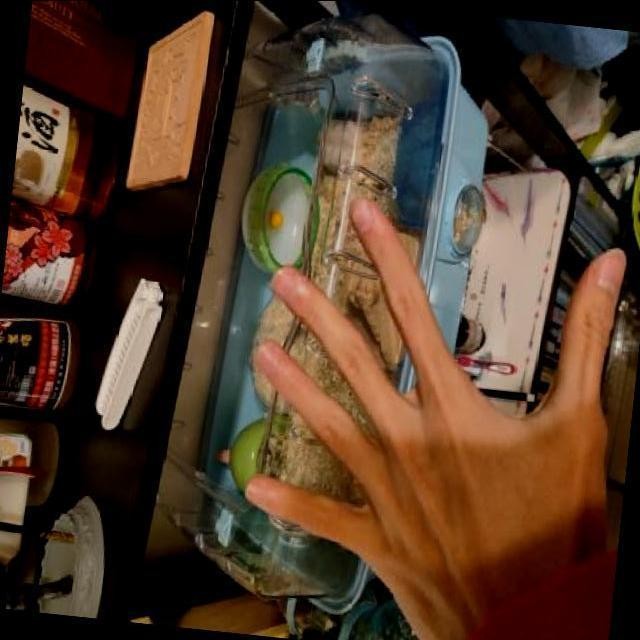bare_hand: (249, 192, 628, 620)
